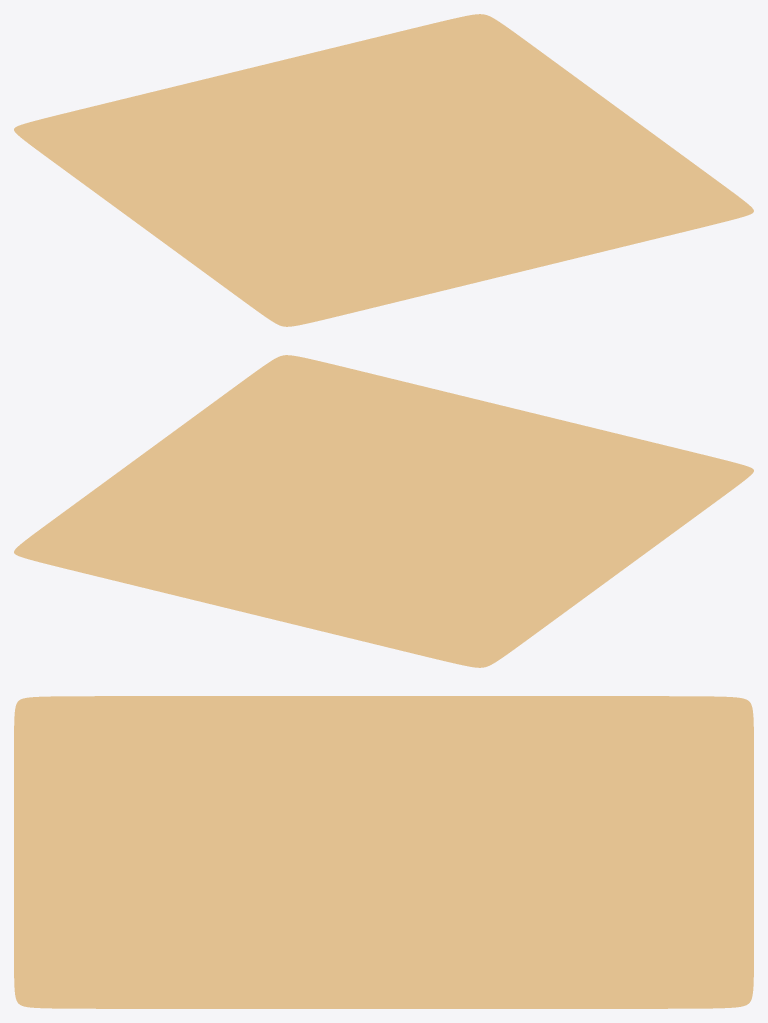
File: sand.glb
3 views of the same model, one above another, from view 1: azimuth 30°, elevation 25°; view 2: azimuth 150°, elevation 25°; view 3: azimuth 270°, elevation 25° (orthographic). The views are drawn at different scales.
Visible parts, largest first — view 1: sand; view 2: sand; view 3: sand.
Boxes of the visible parts, <box> form: sand: <box>14,14,753,326</box>; sand: <box>14,355,753,667</box>; sand: <box>14,696,753,1008</box>.
Size of the model in its own units: 2 by 0 by 2.
